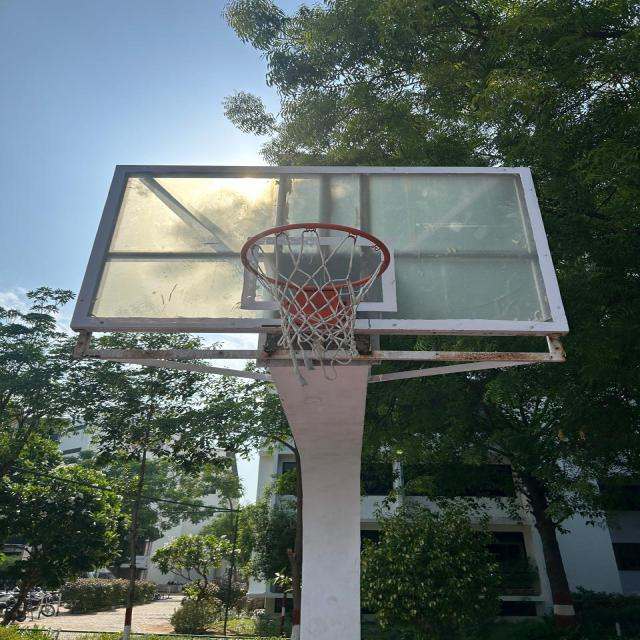hoop: (223, 231, 412, 378)
